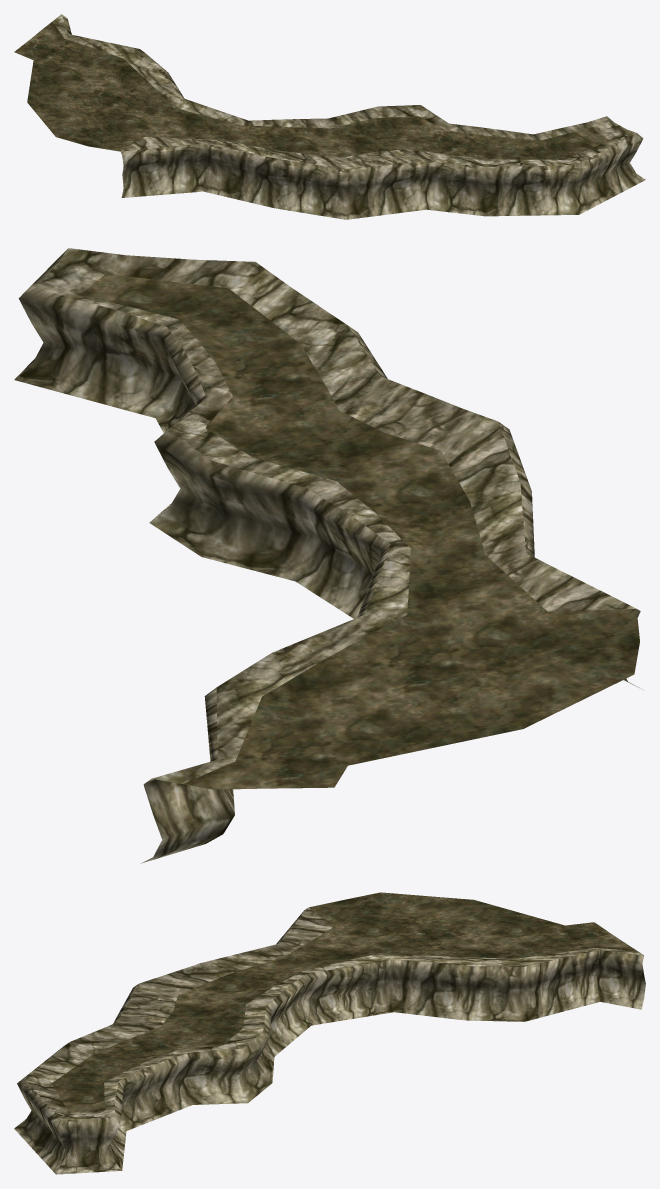
File: CB_NEWPLAYSURFACE_CB_PLAYSURFACE153.fbx
The picture shows the model from 3 angles, top to bottom: view 1: azimuth 30°, elevation 25°; view 2: azimuth 150°, elevation 25°; view 3: azimuth 270°, elevation 25°; orthographic projection. The views are drawn at different scales.
Parts seen in each view (by area): view 1: CB_NEWPLAYSURFACE_CB_PLAYSURFACE153; view 2: CB_NEWPLAYSURFACE_CB_PLAYSURFACE153; view 3: CB_NEWPLAYSURFACE_CB_PLAYSURFACE153.
Part boxes in pixels (left/top/right/bottom): CB_NEWPLAYSURFACE_CB_PLAYSURFACE153: left=14, top=14, right=645, bottom=219; CB_NEWPLAYSURFACE_CB_PLAYSURFACE153: left=14, top=248, right=640, bottom=863; CB_NEWPLAYSURFACE_CB_PLAYSURFACE153: left=14, top=892, right=645, bottom=1174.
Size of the model in its own units: 324382 by 32965 by 366922.
3 materials, 3 textured.
